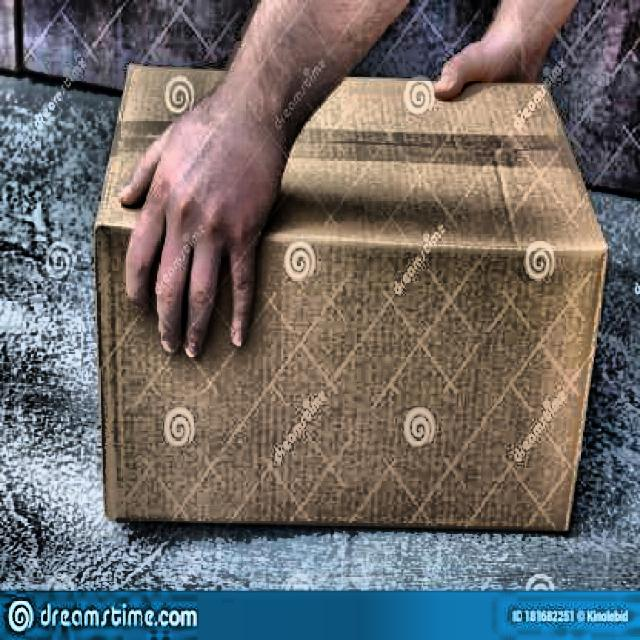Cardbox: (60, 41, 620, 554)
